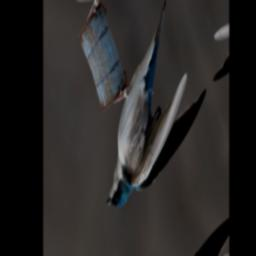Swallow: (76, 0, 213, 238)
